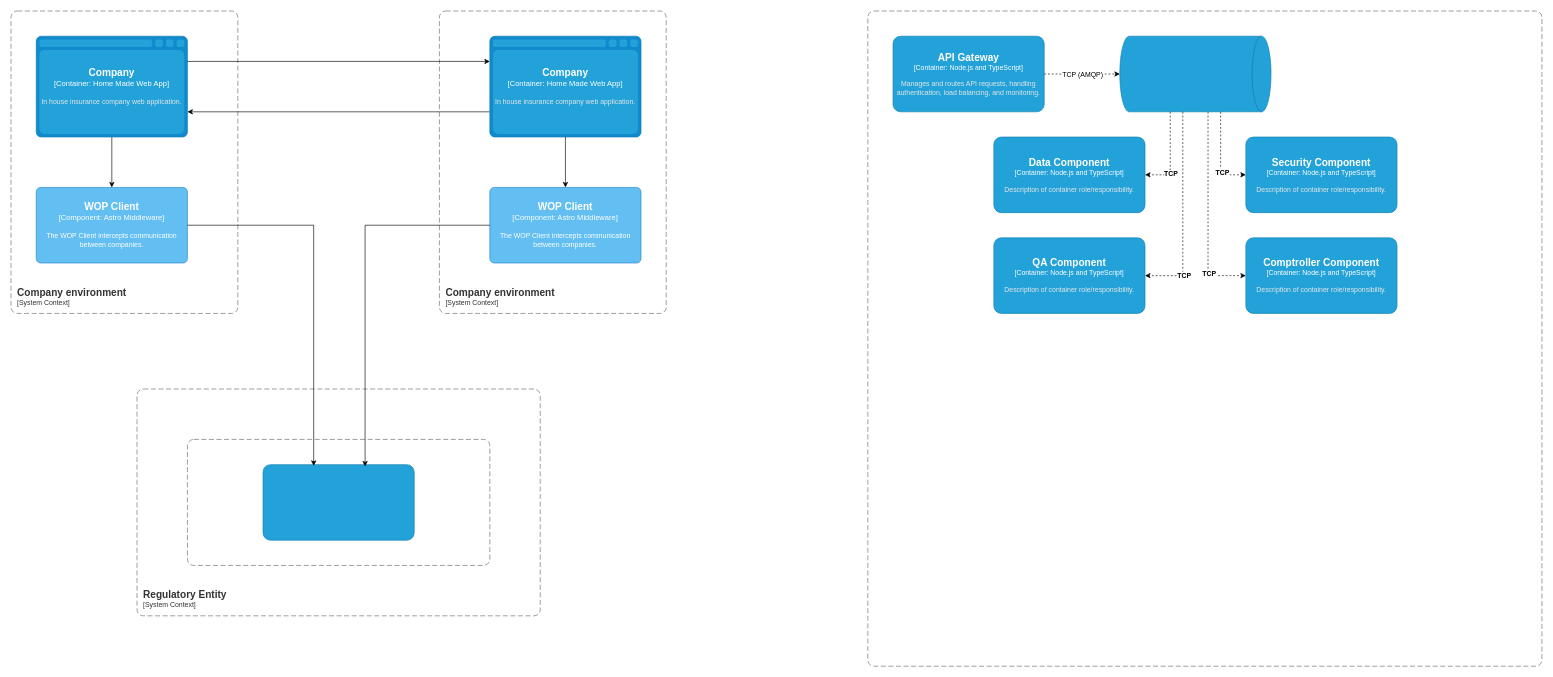
Some shapes in this 1553 by 677 pixel diagram are drawn without their labels. Each missing label, with the box of its shape:
Message Broker [Container: RabbitMQ] Reliable asynchronous communication.: (1119, 36, 1271, 112)
WOP Client [Software System]: (867, 10, 1542, 666)
WOP Server [Container: Python backend] WOP Server internet facing API.: (262, 464, 414, 540)
WOP Server [Software System]: (187, 439, 490, 565)
